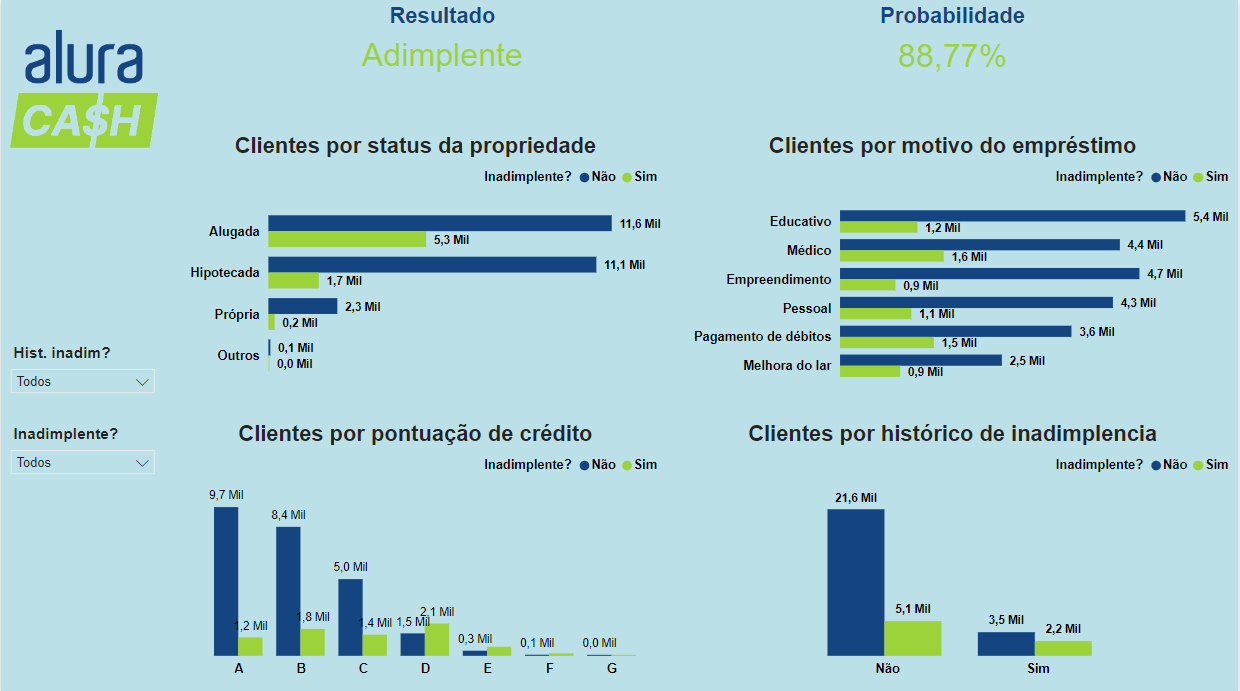

This screenshot's page, from the dashboard's own definition file:
{"tool":"powerbi","page":{"name":"Dashboard","canvas":[1280,720],"ordinal":0},"visuals":[{"type":"card","title":"Resultado","fields":{"Values":["Min(v1=39&v2=33996 0&v3=Alugada&v4=6&v5=M%C3%A9dico&v6=D&v7=4000 0&v8=11 01363&v9=0.Cliente)"]},"box":[362.8,2.8,187.1,79.4],"z":0},{"type":"card","title":"Probabilidade","fields":{"Values":["Sum(v1=39&v2=33996 0&v3=Alugada&v4=6&v5=M%C3%A9dico&v6=D&v7=4000 0&v8=11 01363&v9=0.Probabilidade)"]},"box":[900,2.8,168.7,82.2],"z":1000},{"type":"clusteredBarChart","title":"Clientes por status da propriedade","fields":{"Category":["alura_cash_tratado.pessoa_status_propriedade"],"Y":["CountNonNull(alura_cash_tratado.emprestimo_inadimplente)"],"Series":["alura_cash_tratado.emprestimo_inadimplente_texto"]},"box":[168.7,137.5,520.2,283.5],"z":2000},{"type":"image","box":[0,0,168.7,182.8],"z":3000},{"type":"clusteredBarChart","title":"Clientes por motivo do empréstimo","fields":{"Category":["alura_cash_tratado.emprestimo_motivo"],"Y":["CountNonNull(alura_cash_tratado.emprestimo_inadimplente)"],"Series":["alura_cash_tratado.emprestimo_inadimplente_texto"]},"box":[688.8,137.5,591,283.5],"z":4000},{"type":"clusteredColumnChart","title":"Clientes por pontuação de crédito","fields":{"Category":["alura_cash_tratado.emprestimo_pontuacao"],"Y":["CountNonNull(alura_cash_tratado.emprestimo_inadimplente)"],"Series":["alura_cash_tratado.emprestimo_inadimplente_texto"]},"box":[168.7,435.1,520.2,284.9],"z":5000},{"type":"clusteredColumnChart","title":"Clientes por histórico de inadimplencia","fields":{"Y":["CountNonNull(alura_cash_tratado.emprestimo_inadimplente)"],"Series":["alura_cash_tratado.emprestimo_inadimplente_texto"],"Category":["alura_cash_tratado.historico_inadimplencia_texto"]},"box":[688.8,435.1,591,284.9],"z":6000},{"type":"slicer","fields":{"Values":["alura_cash_tratado.emprestimo_inadimplente_texto"]},"box":[0,435.1,168.7,73.7],"z":7000},{"type":"slicer","fields":{"Values":["alura_cash_tratado.historico_inadimplencia_texto"]},"box":[0,351.5,168.7,69.4],"z":7001}]}

Visuals, with their boxes in screenshot pixels (x1, y1, x2, y2), scaled from the page's 1280x720 canvas onto the 1240x691 screenshot:
"Resultado" card: bbox(351, 3, 533, 79)
"Probabilidade" card: bbox(872, 3, 1035, 82)
"Clientes por status da propriedade" clusteredBarChart: bbox(163, 132, 667, 404)
image: bbox(0, 0, 163, 175)
"Clientes por motivo do empréstimo" clusteredBarChart: bbox(667, 132, 1239, 404)
"Clientes por pontuação de crédito" clusteredColumnChart: bbox(163, 418, 667, 690)
"Clientes por histórico de inadimplencia" clusteredColumnChart: bbox(667, 418, 1239, 690)
slicer - alura_cash_tratado.emprestimo_inadimplente_texto: bbox(0, 418, 163, 488)
slicer - alura_cash_tratado.historico_inadimplencia_texto: bbox(0, 337, 163, 404)
